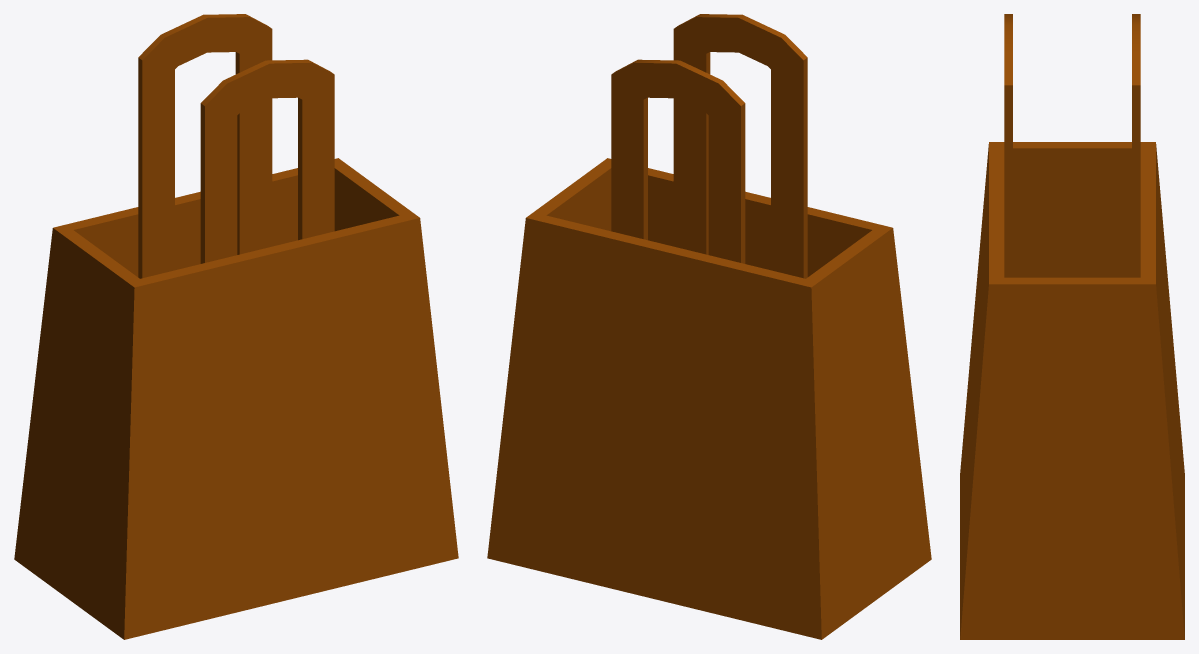
The model's file is Paper Bag.fbx.
3 renders of one model, left to right at view 1: azimuth 30°, elevation 25°; view 2: azimuth 150°, elevation 25°; view 3: azimuth 270°, elevation 25°, orthographic. The views are drawn at different scales.
Visible parts, largest first — view 1: Model; view 2: Model; view 3: Model.
Part boxes in pixels (left/top/right/bottom): Model: left=14, top=14, right=458, bottom=639; Model: left=487, top=14, right=931, bottom=639; Model: left=960, top=14, right=1184, bottom=639.
Bounding box in the file's own units: 24.08 × 35.76 × 13.71.
